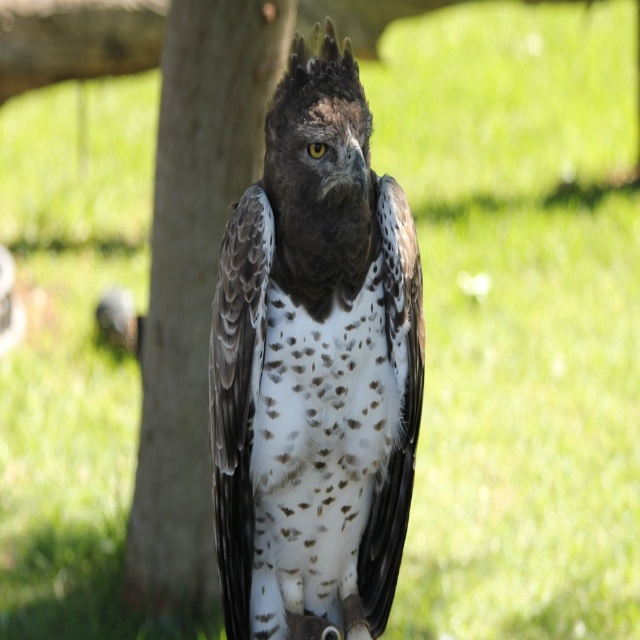Owl: (204, 20, 423, 639)
